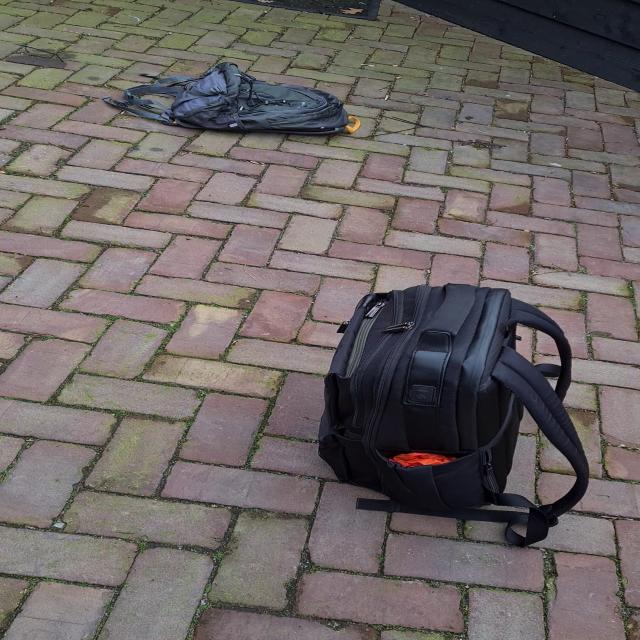backpack: (317, 284, 587, 546)
